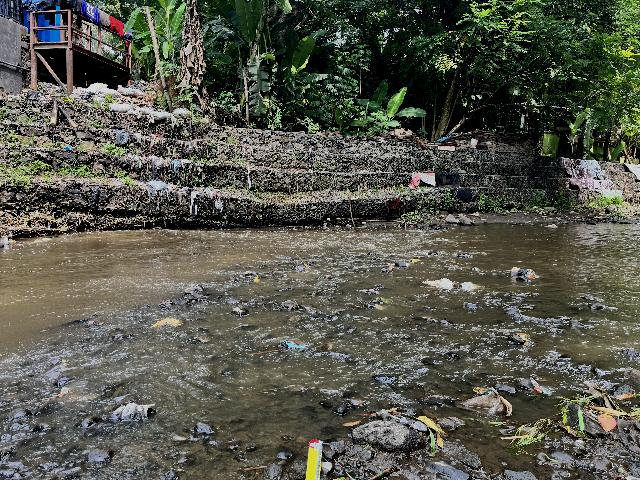Sampah Anorganik: (457, 385, 513, 420), (304, 435, 326, 480), (523, 371, 554, 399), (276, 336, 312, 352), (44, 388, 78, 401), (510, 265, 539, 280), (425, 277, 454, 290), (461, 280, 477, 293), (356, 289, 380, 295)
Sampah Organik: (560, 395, 618, 433), (497, 422, 553, 447), (151, 315, 185, 329), (513, 332, 534, 348), (373, 297, 393, 304), (614, 393, 637, 399), (254, 272, 260, 284), (303, 262, 311, 270), (410, 258, 422, 263), (389, 264, 393, 271)
